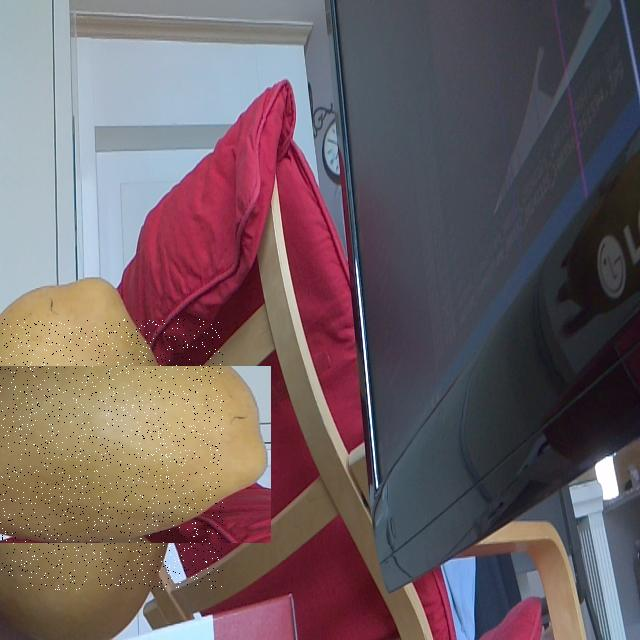pear: (0, 319, 224, 590)
